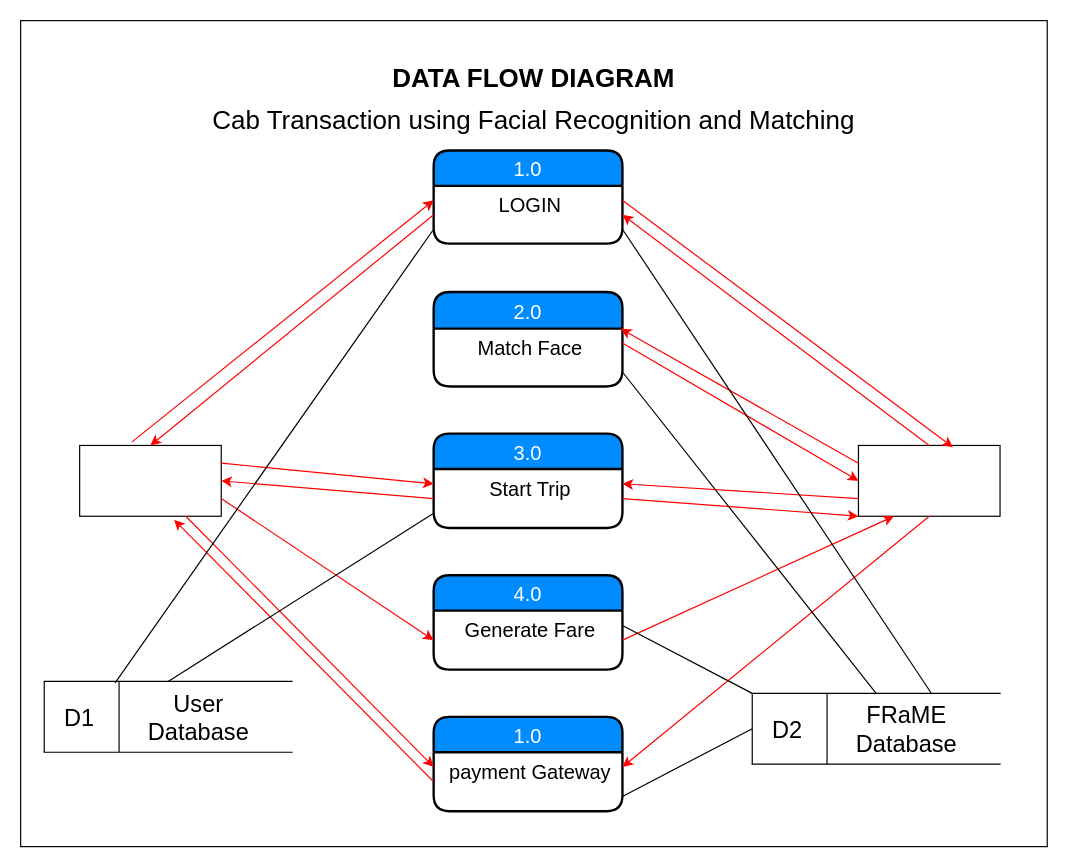
Image size: 1068x867. Some labels were removed from this diagram. The shapes that lost their labels are listed below. From the top down, each one's centre as x and y in pixels, then its label:
At point 149,480: "User".
At point 928,480: "Driver/Cab".
